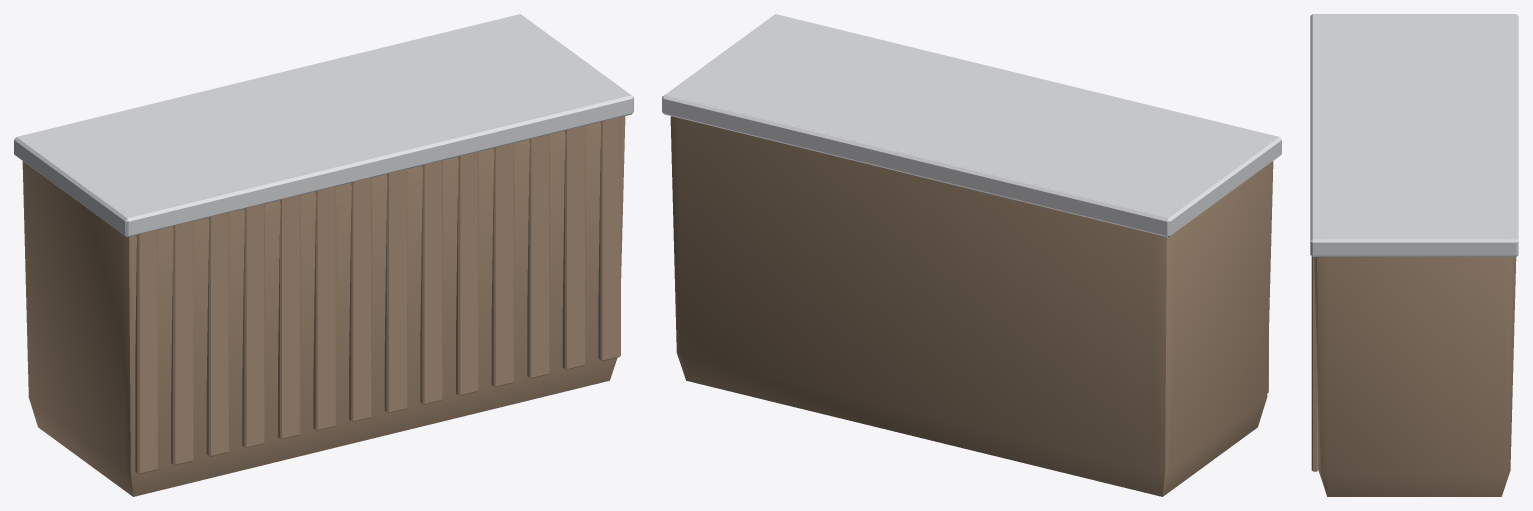
File: lobby-planter-cc0.glb
3 views of the same model, side by side, from view 1: azimuth 30°, elevation 25°; view 2: azimuth 150°, elevation 25°; view 3: azimuth 270°, elevation 25° (orthographic). The views are drawn at different scales.
Parts seen in each view (by area): view 1: lobby-planter; view 2: lobby-planter; view 3: lobby-planter.
Part boxes in pixels (x1,y1,x2,y2): lobby-planter: [14, 14, 633, 496]; lobby-planter: [662, 14, 1281, 496]; lobby-planter: [1310, 14, 1518, 496].
Size of the model in its own units: 1.11 by 0.6001 by 0.43.
